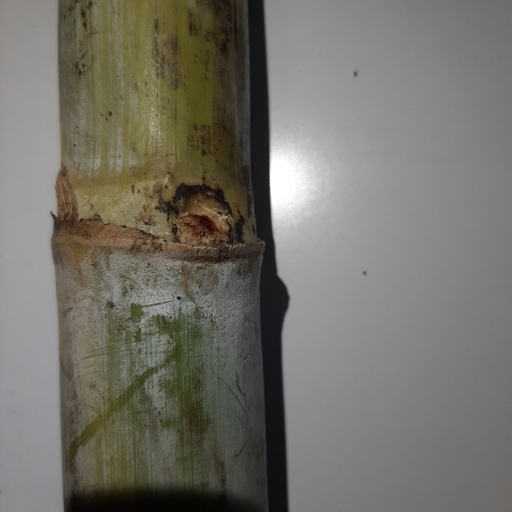Damage_Bud: (178, 194, 232, 246)
